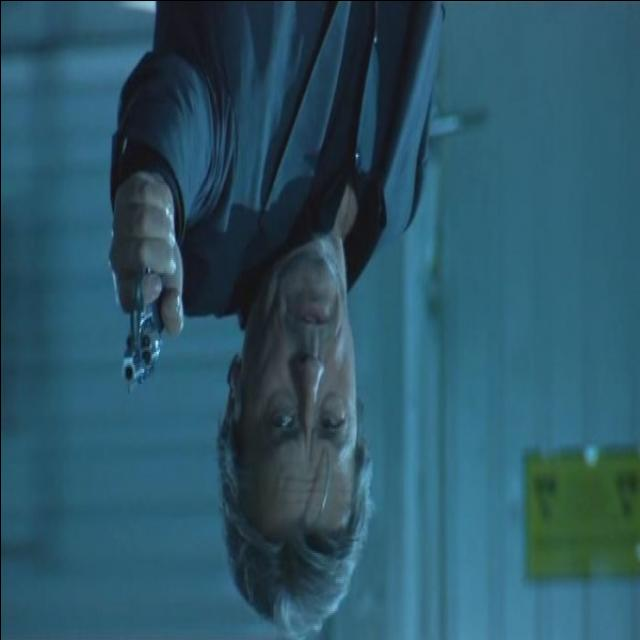weapons: (102, 196, 184, 420)
